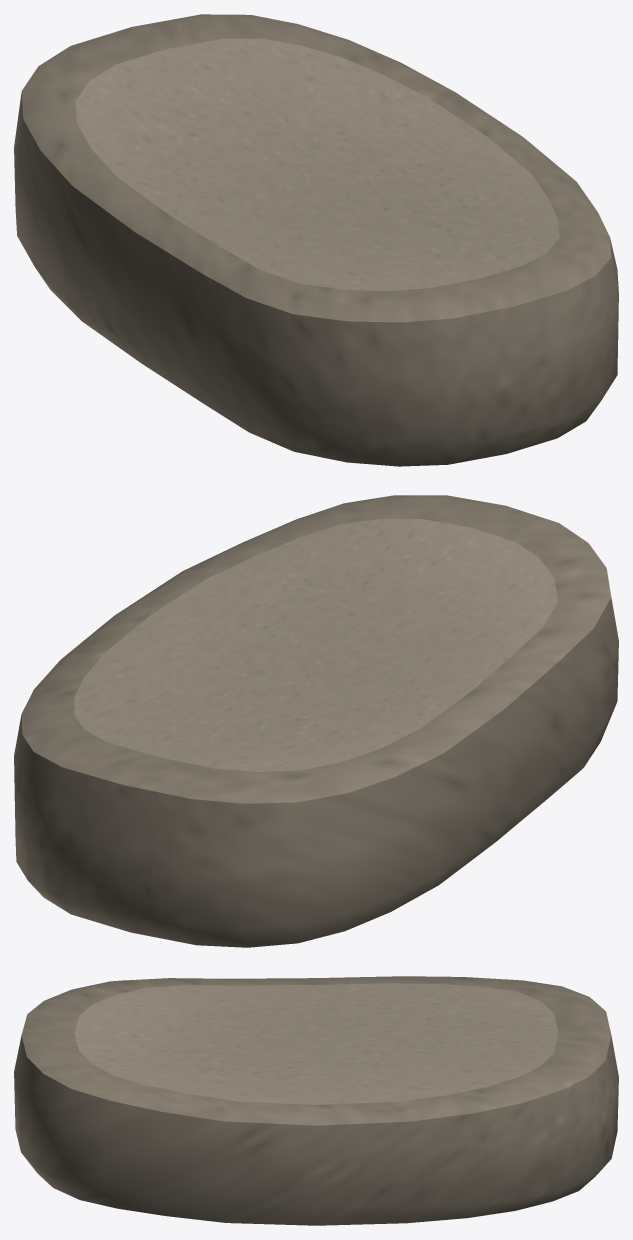
File: quern.glb
3 renders of one model, top to bottom at view 1: azimuth 30°, elevation 25°; view 2: azimuth 150°, elevation 25°; view 3: azimuth 270°, elevation 25°, orthographic. The views are drawn at different scales.
Parts seen in each view (by area): view 1: QUERN; view 2: QUERN; view 3: QUERN.
Part boxes in pixels (x1,y1,x2,y2): QUERN: (14, 14, 618, 466); QUERN: (14, 495, 618, 947); QUERN: (14, 976, 618, 1225).
Size of the model in its own units: 0.3225 by 0.1211 by 0.5468.
Materials: 1 (1 with a texture image).
